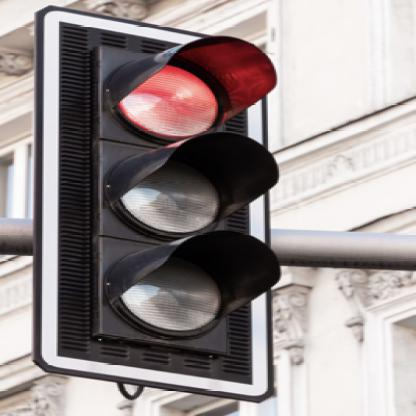trafficlight: (34, 6, 276, 402)
